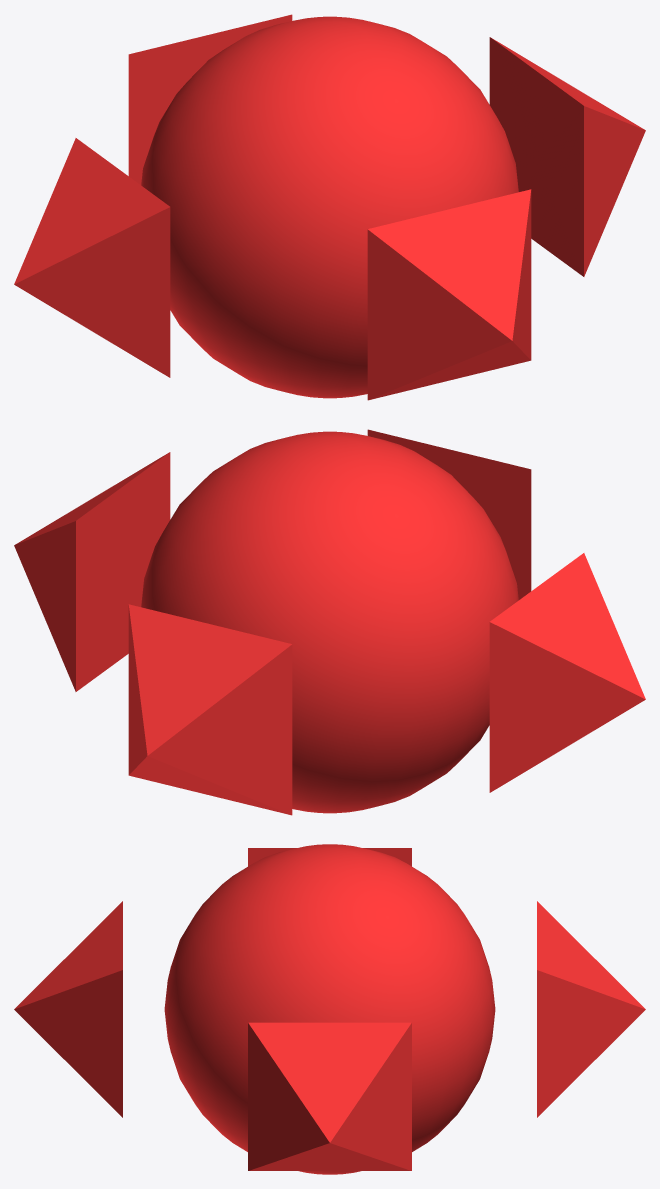
File: Enemy_Test.FBX
3 renders of one model, top to bottom at view 1: azimuth 30°, elevation 25°; view 2: azimuth 150°, elevation 25°; view 3: azimuth 270°, elevation 25°, orthographic. The views are drawn at different scales.
Visible parts, largest first — view 1: Sphere001, Pyramid002, Pyramid004, Pyramid001, Pyramid003; view 2: Sphere001, Pyramid003, Pyramid004, Pyramid001, Pyramid002; view 3: Sphere001, Pyramid001, Pyramid002, Pyramid003, Pyramid004.
Boxes of the visible parts, bbox=[...] form: Sphere001: bbox=[141, 16, 518, 398]; Pyramid002: bbox=[367, 189, 531, 400]; Pyramid004: bbox=[14, 138, 170, 377]; Pyramid001: bbox=[489, 37, 645, 276]; Pyramid003: bbox=[128, 14, 292, 184]; Sphere001: bbox=[141, 431, 518, 813]; Pyramid003: bbox=[128, 604, 292, 815]; Pyramid004: bbox=[489, 553, 645, 792]; Pyramid001: bbox=[14, 452, 170, 691]; Pyramid002: bbox=[367, 429, 531, 599]; Sphere001: bbox=[164, 844, 495, 1174]; Pyramid001: bbox=[248, 1022, 411, 1170]; Pyramid002: bbox=[14, 901, 122, 1117]; Pyramid003: bbox=[537, 901, 645, 1117]; Pyramid004: bbox=[248, 848, 411, 866].
Size of the model in its own units: 76.39 by 40 by 76.39.
